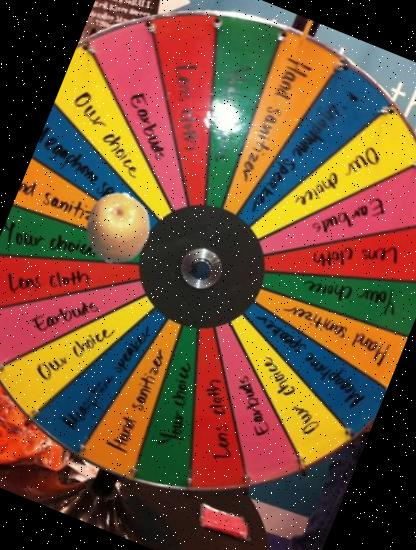Kumquats: (71, 181, 165, 275)
